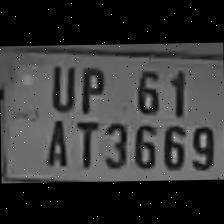1: (162, 61, 190, 116)
3: (100, 114, 128, 168)
6: (129, 61, 162, 114), (128, 118, 158, 168), (156, 120, 186, 170)
9: (186, 118, 216, 171)
A: (39, 114, 70, 168)
P: (72, 60, 107, 111)
T: (68, 115, 98, 168)
U: (45, 59, 76, 111)
